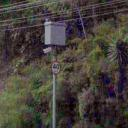speed_limit_40: (51, 61, 60, 75)
